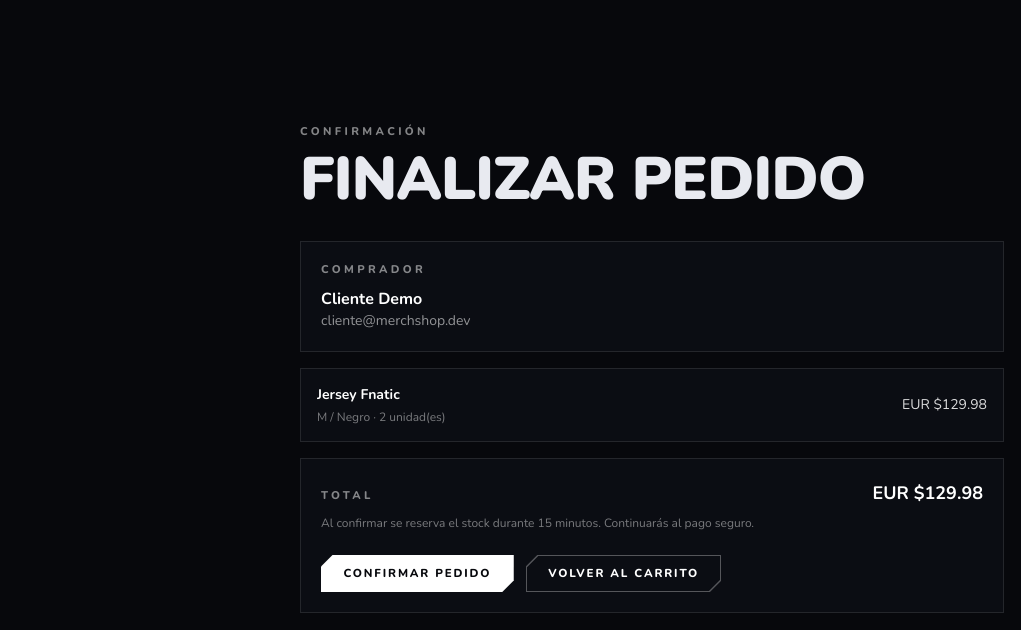
it: CheckoutPage › crea el pedido con las líneas del carrito, lo vacía y navega al pago
The width and height of the screenshot is (1021, 630).
Expected: the text "cliente@merchshop.dev" is shown, [321,311,470,330]
Expected: the text "EUR $129.98" is shown 2 times, [902,395,987,415]; [872,479,983,507]
Click the button "Confirmar pedido": (417, 574) [321,555,514,592]
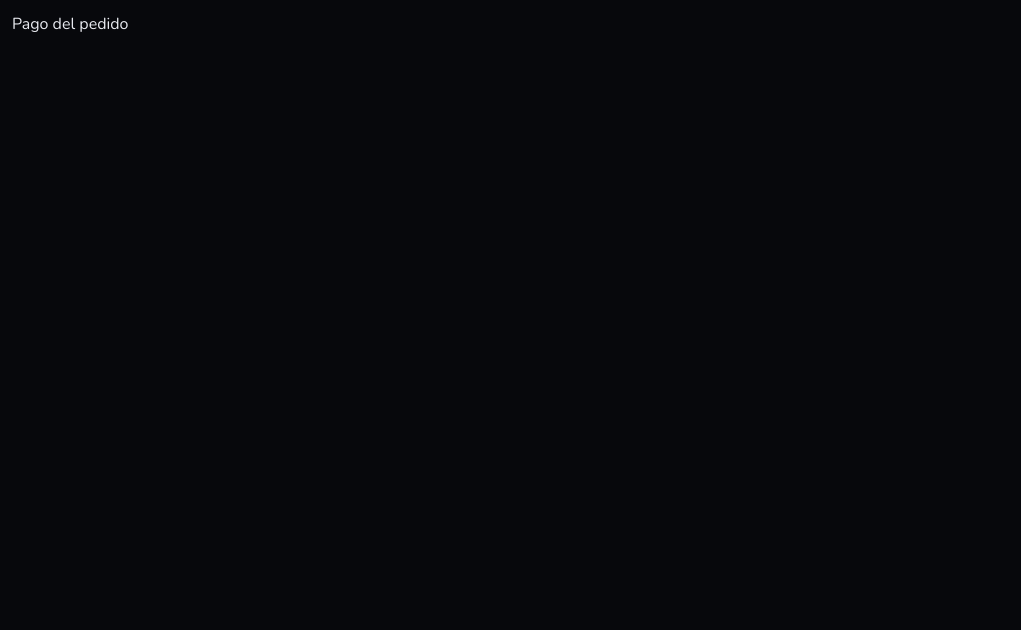
Expected: the text "Pago del pedido" is shown, [12,13,128,35]
